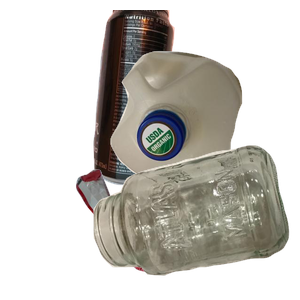glass: (91, 143, 300, 300)
metal: (91, 10, 258, 188)
plastic: (108, 49, 300, 226)
trash: (74, 167, 235, 300)
